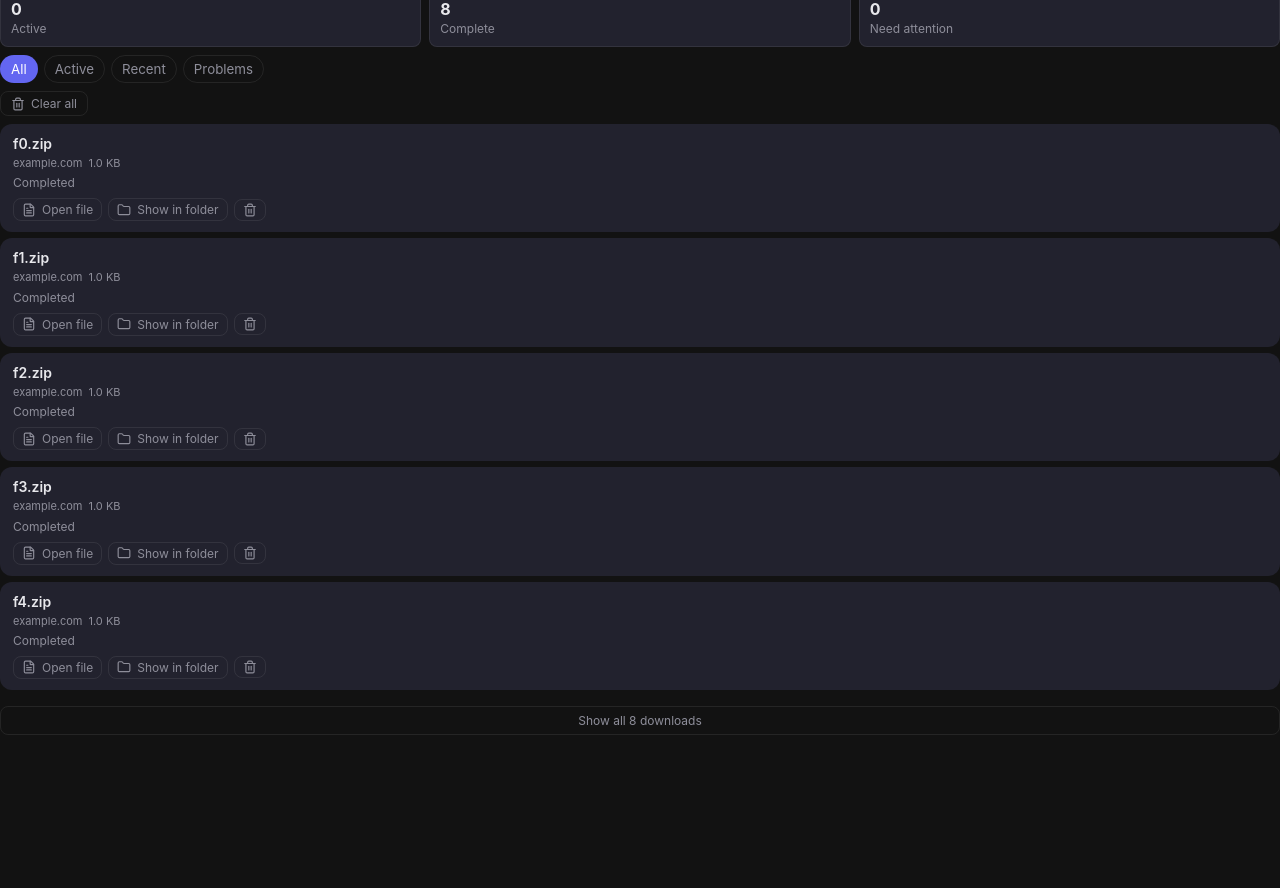
Test: DownloadsPanel › folds long lists to five rows behind a Show all toggle
Check: the text "f4.zip" is shown, box [13, 593, 51, 610]
Check: the text "f5.zip" is not shown
Click the button "Show all 8 downloads" at coordinates (640, 720), box [0, 706, 1279, 735]
(page scrolled)
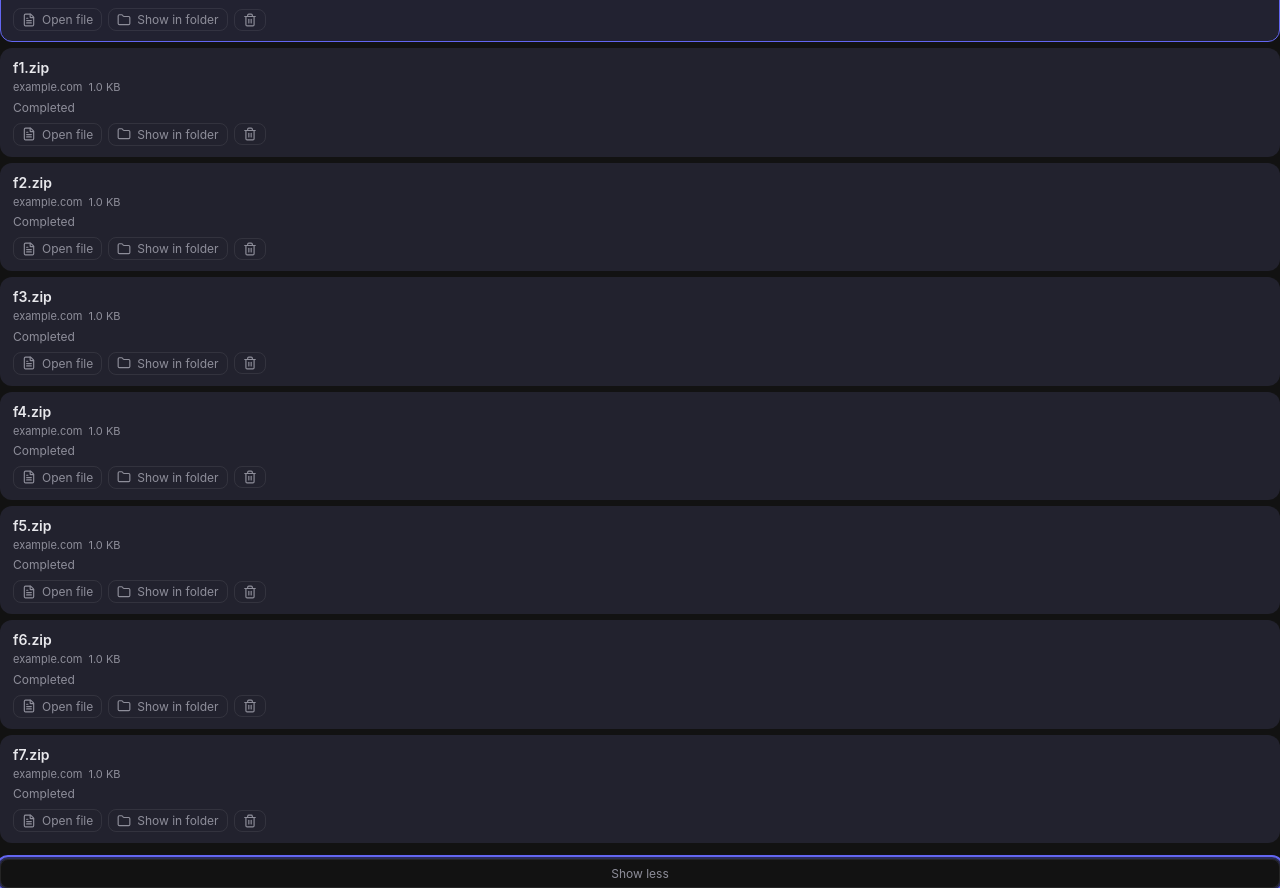
Check: the text "f7.zip" is shown, box [13, 746, 50, 763]
Check: the button "Show less" is shown, box [0, 859, 1279, 887]
